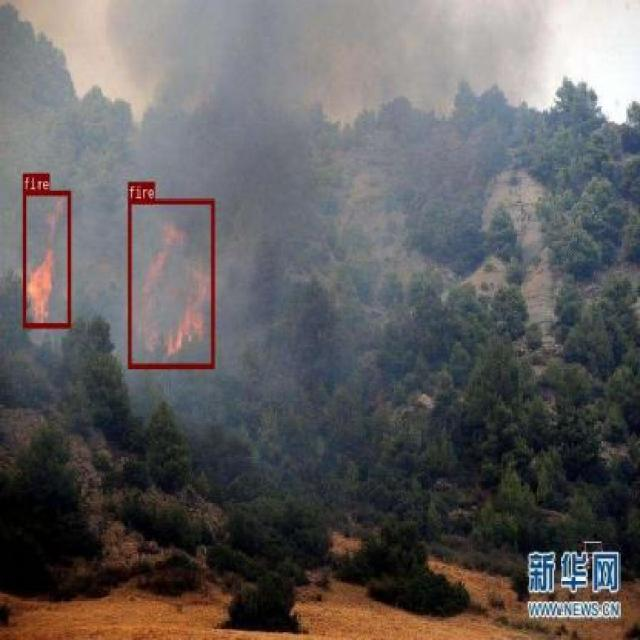Fire: (128, 198, 214, 368), (22, 190, 70, 327)
